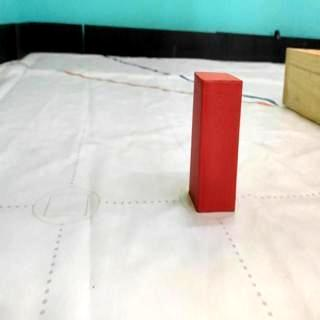redbox: (191, 70, 243, 212)
